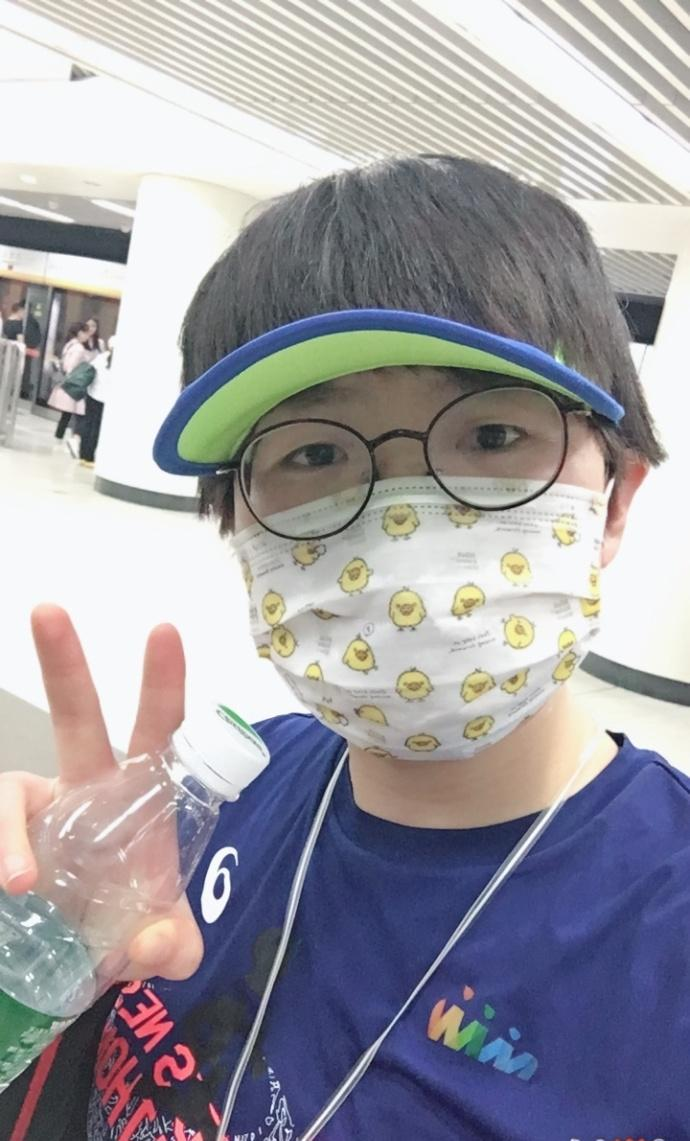OK: (216, 360, 607, 751)
